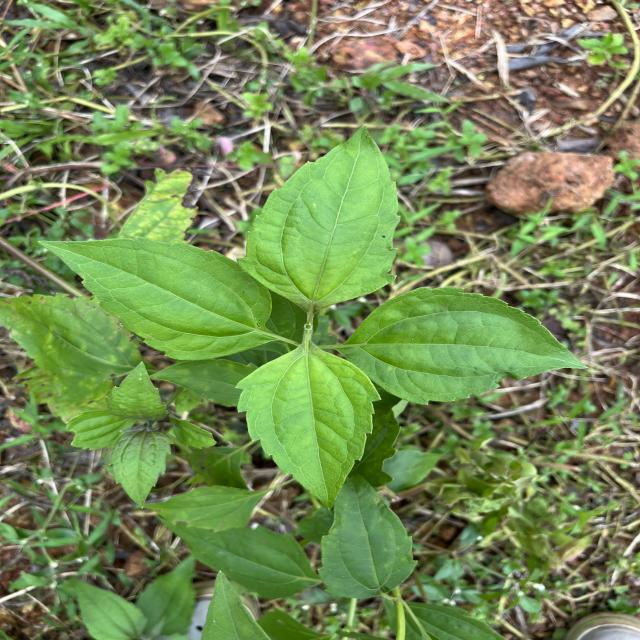Chromolaena odorata: (234, 122, 404, 312), (339, 282, 593, 409), (35, 232, 280, 362), (231, 340, 386, 512)
